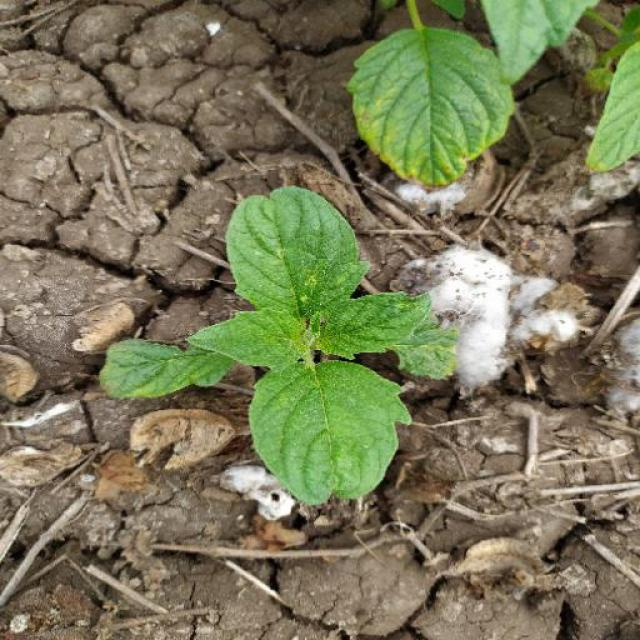crop: (91, 194, 470, 506)
